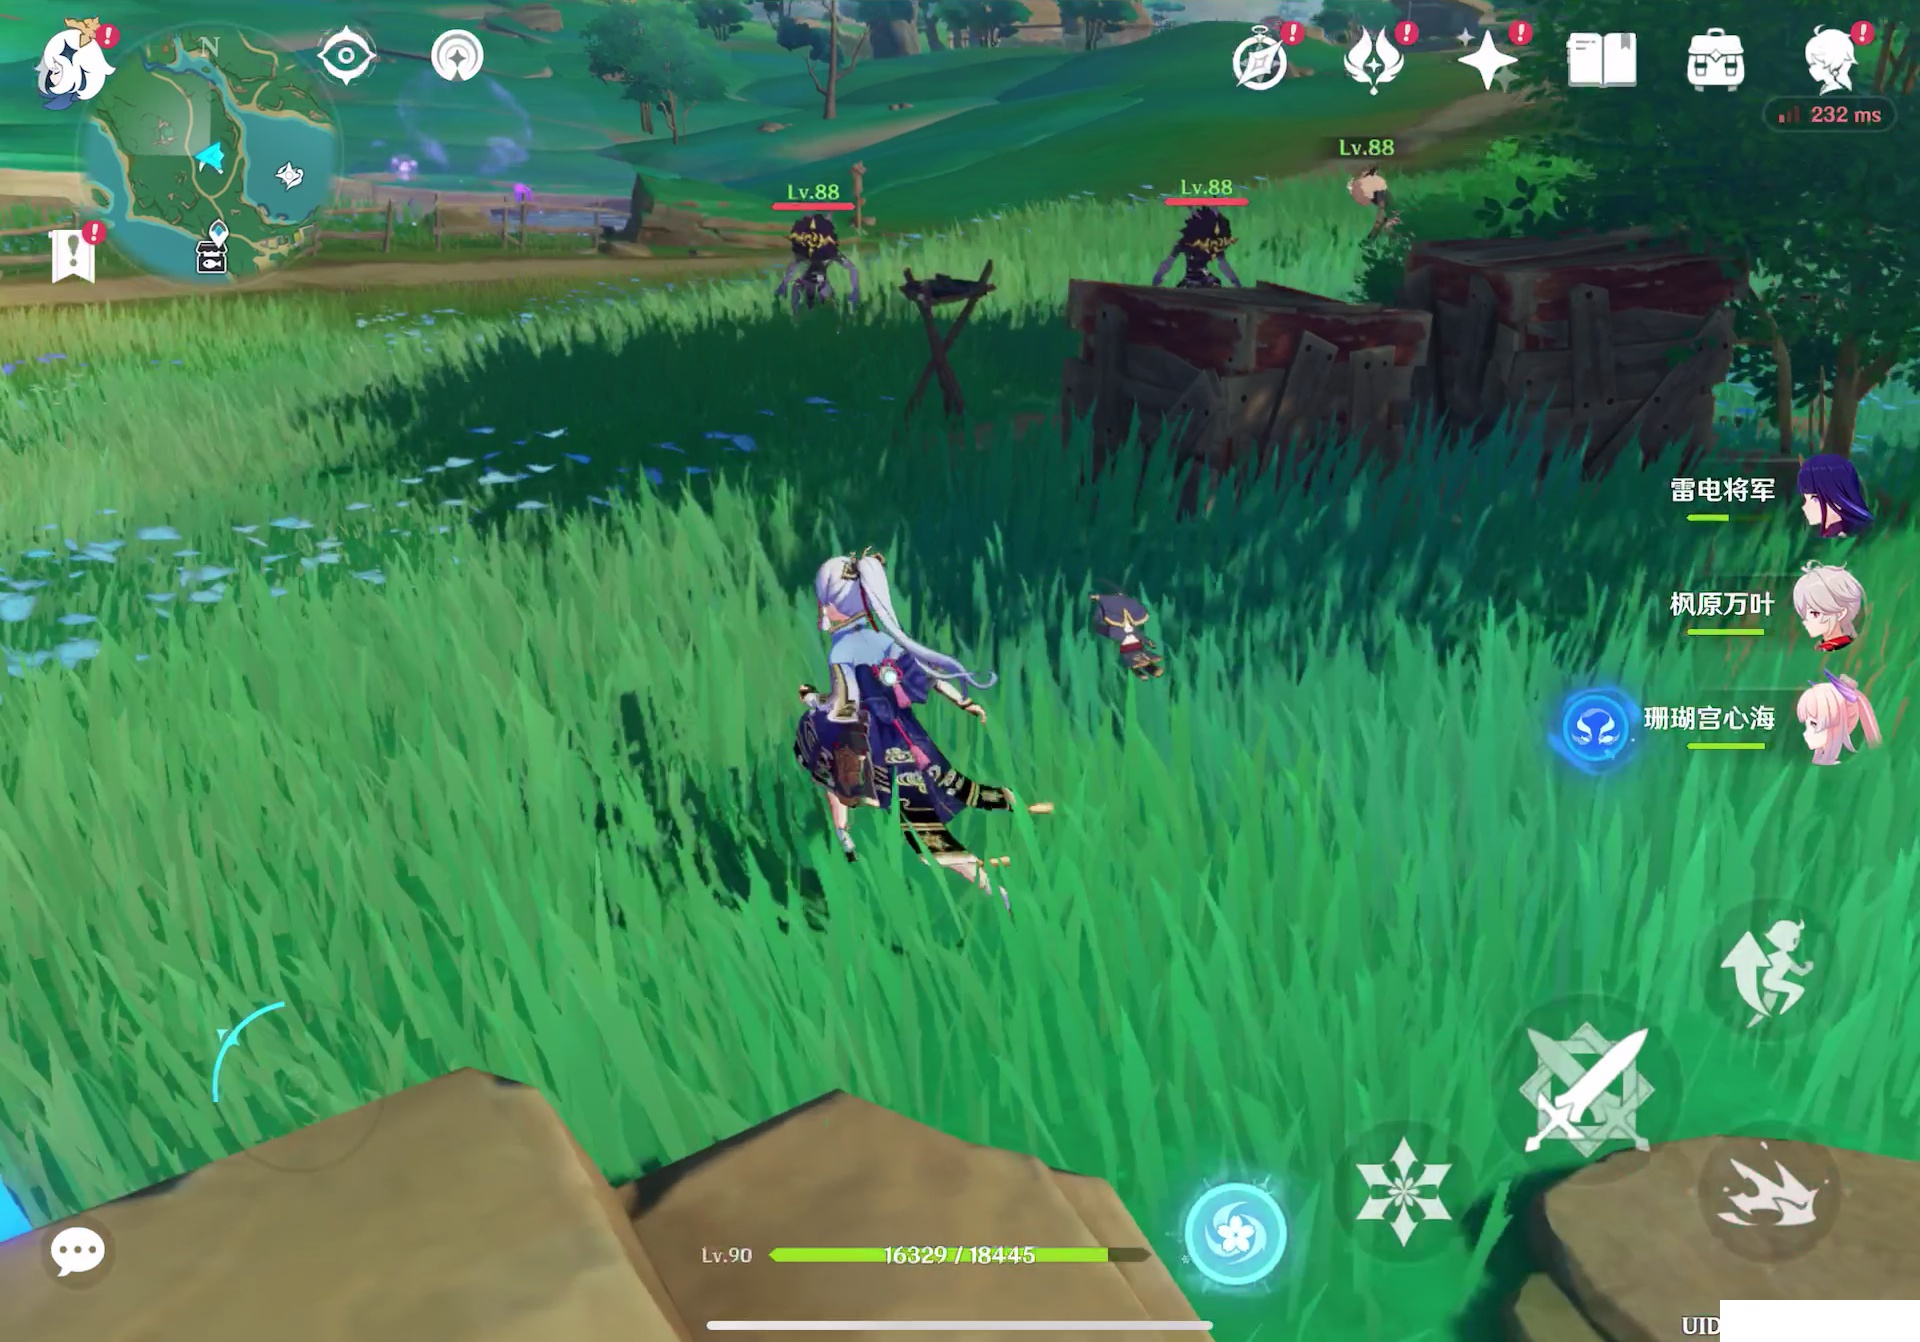丘丘人: (781, 213, 871, 311), (1160, 213, 1249, 282), (1352, 165, 1408, 239)
神里绫龟: (773, 554, 1013, 887)
